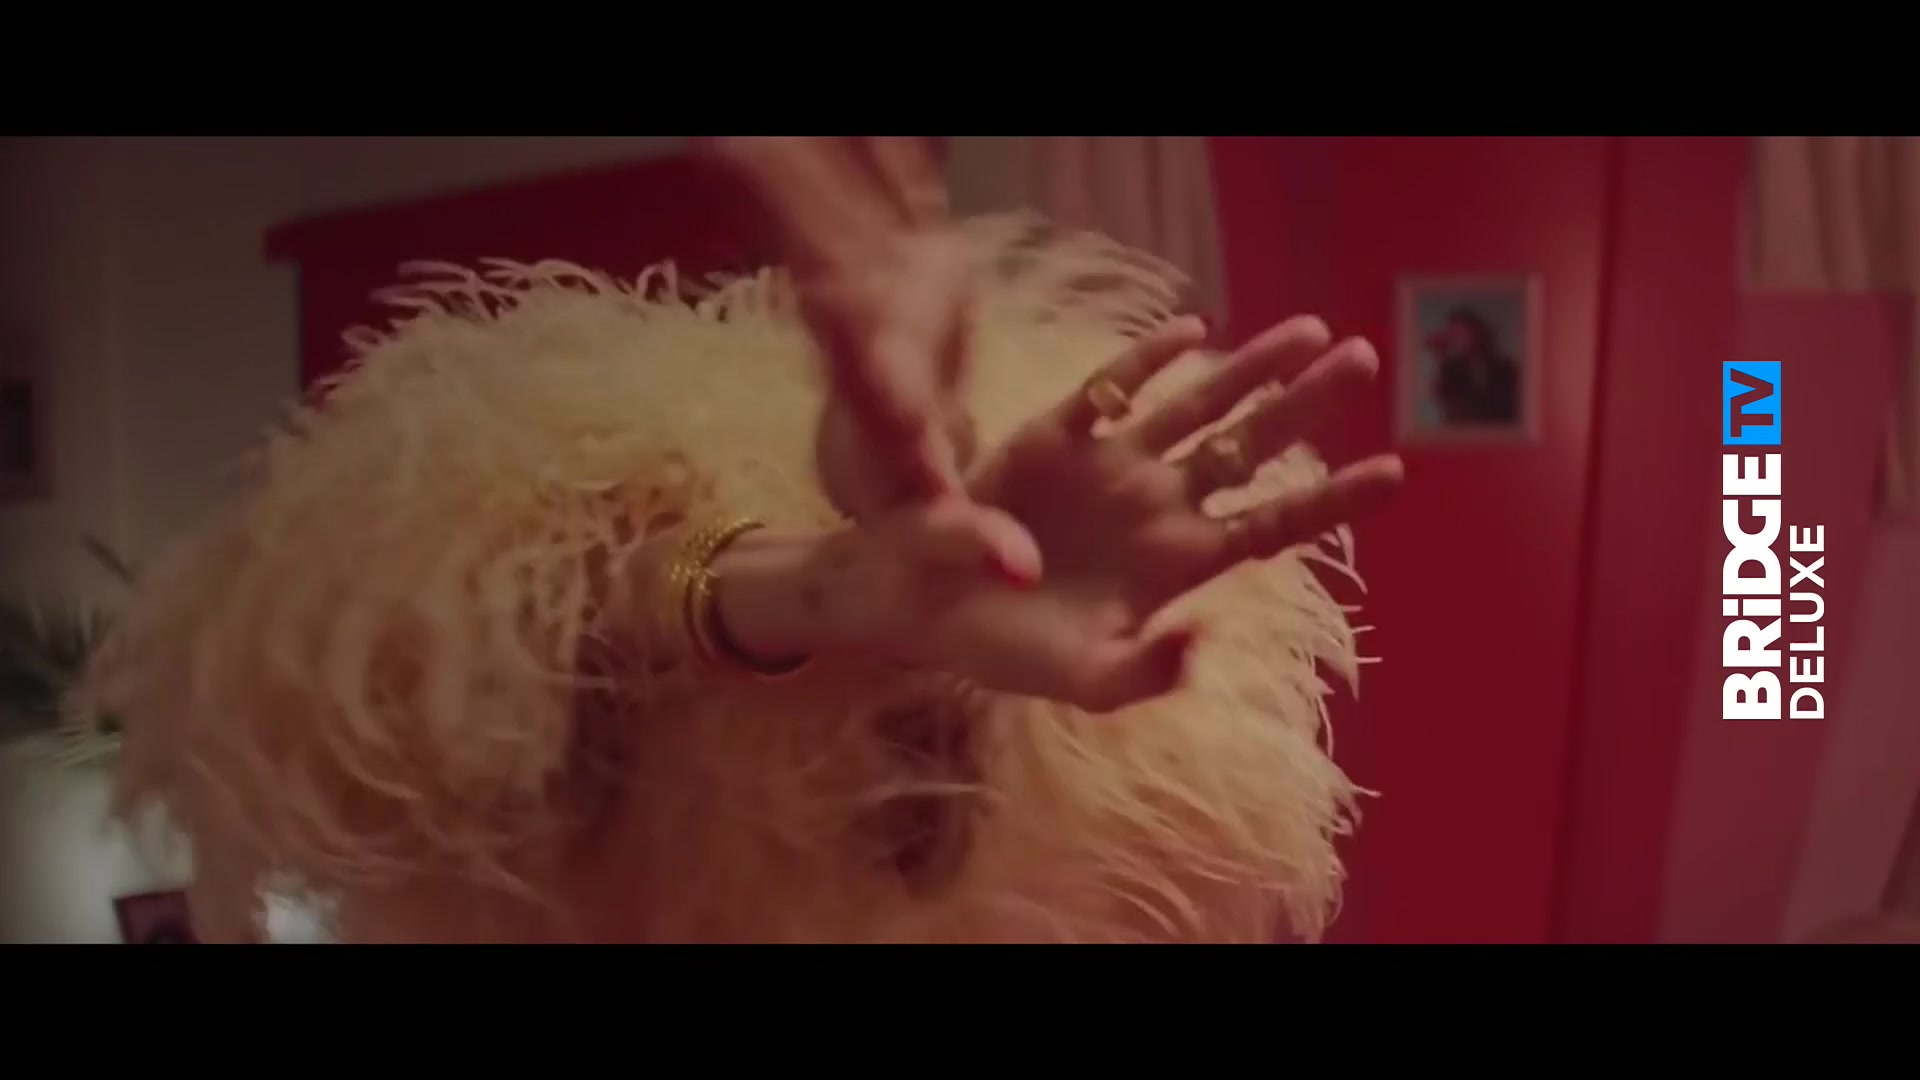Bridge_TV_Deluxe: (1716, 351, 1828, 728)
